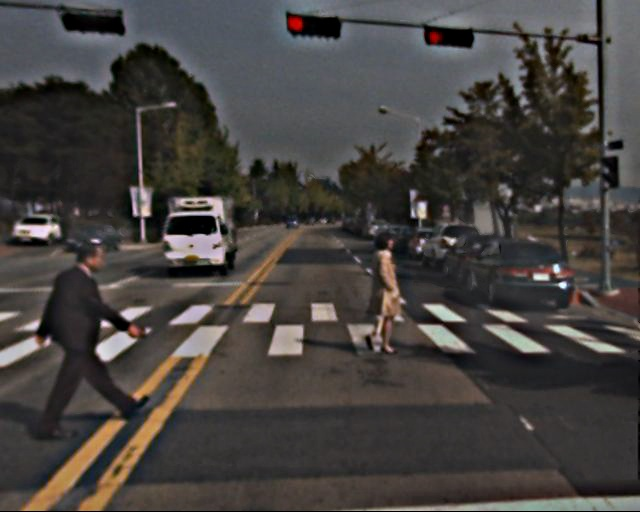person: (43, 240, 122, 433), (355, 233, 405, 356)
